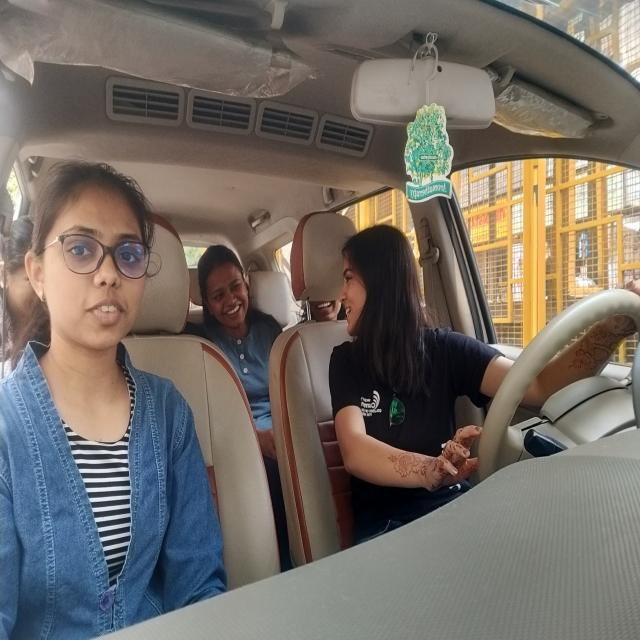person: (21, 152, 162, 370), (324, 204, 428, 386), (196, 231, 263, 360)
talking: (335, 286, 362, 328)
